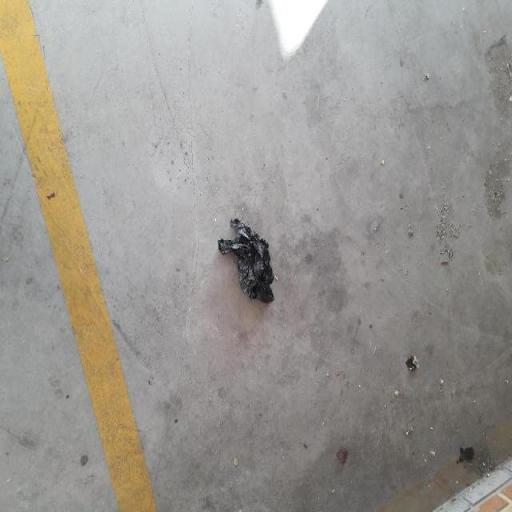plastic-bag: (216, 212, 278, 310)
